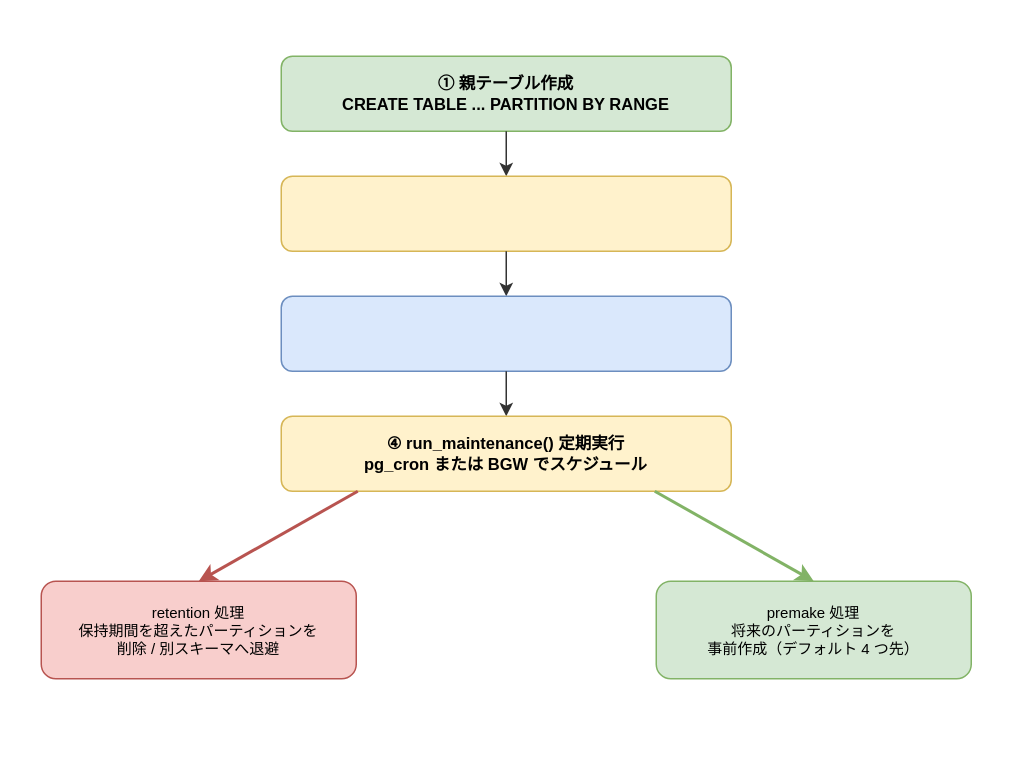
This 1011x771 diagram has some shape labels left out. Here are the shapes that lost their labels. From the top down, the centre of each, then its label:
At pixel 505 213: "② create_parent() 実行 初期パーティション・テンプレート・デフォルト作成".
At pixel 505 333: "③ 運用開始 INSERT → PostgreSQL が子パーティションへ自動ルーティング".
